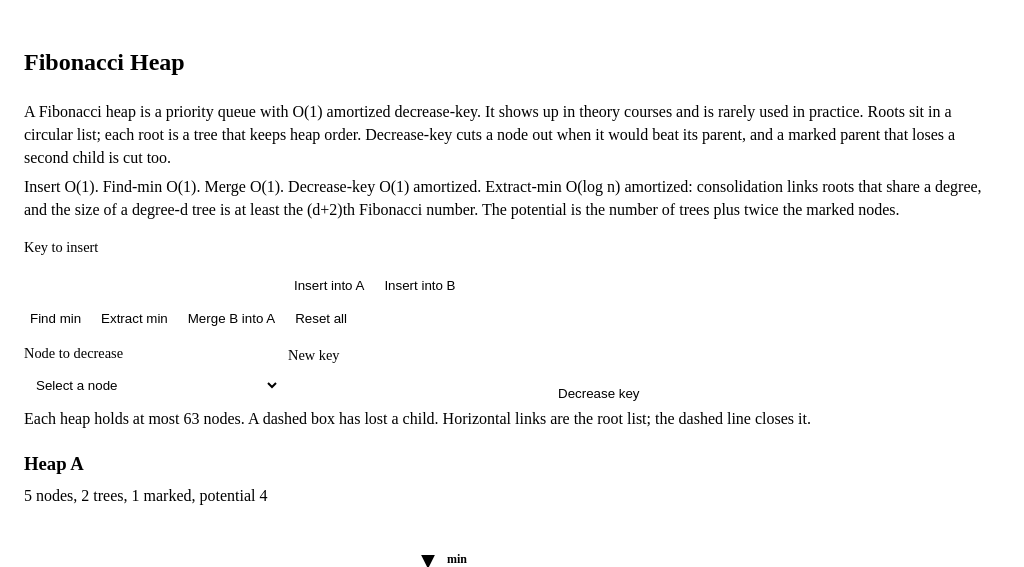
Test case: find-min reports the key
Click the button "Find min" at (56, 318), box [24,310,87,327]
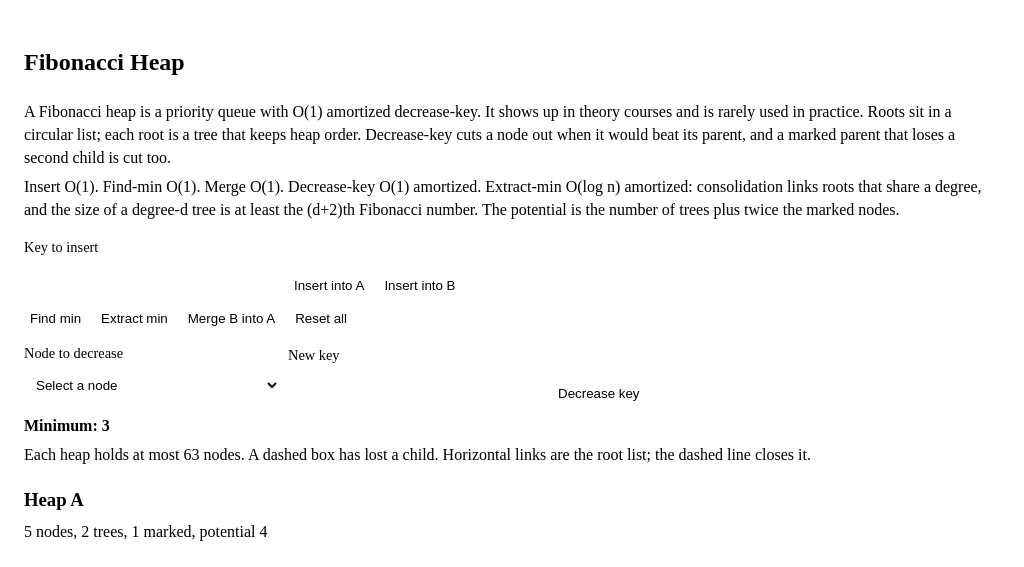
Expected: the text "Minimum: 3" is shown, [24,417,110,434]
